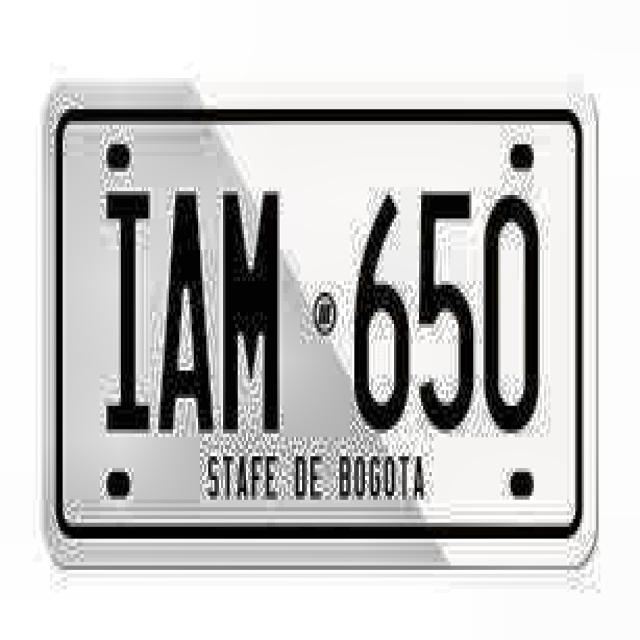plate: (55, 96, 589, 555)
